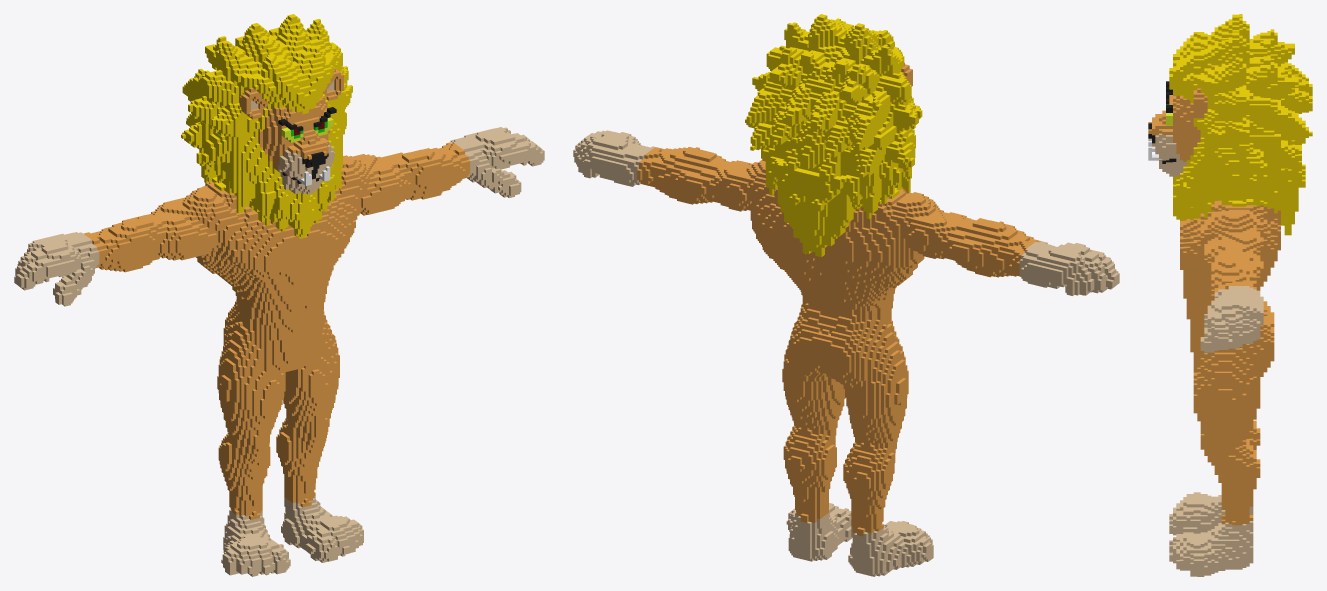
File: 510-BvgQGc-M.glb
The picture shows the model from 3 angles, left to right: view 1: azimuth 30°, elevation 25°; view 2: azimuth 150°, elevation 25°; view 3: azimuth 270°, elevation 25°; orthographic projection. The views are drawn at different scales.
Parts seen in each view (by area): view 1: ork; view 2: ork; view 3: ork.
Part boxes in pixels (x1,y1,x2,y2): ork: (14,14,544,576); ork: (573,14,1119,576); ork: (1148,14,1312,576).
Size of the model in its own units: 17.2 by 16.5 by 4.7.
4 materials, 4 textured.
